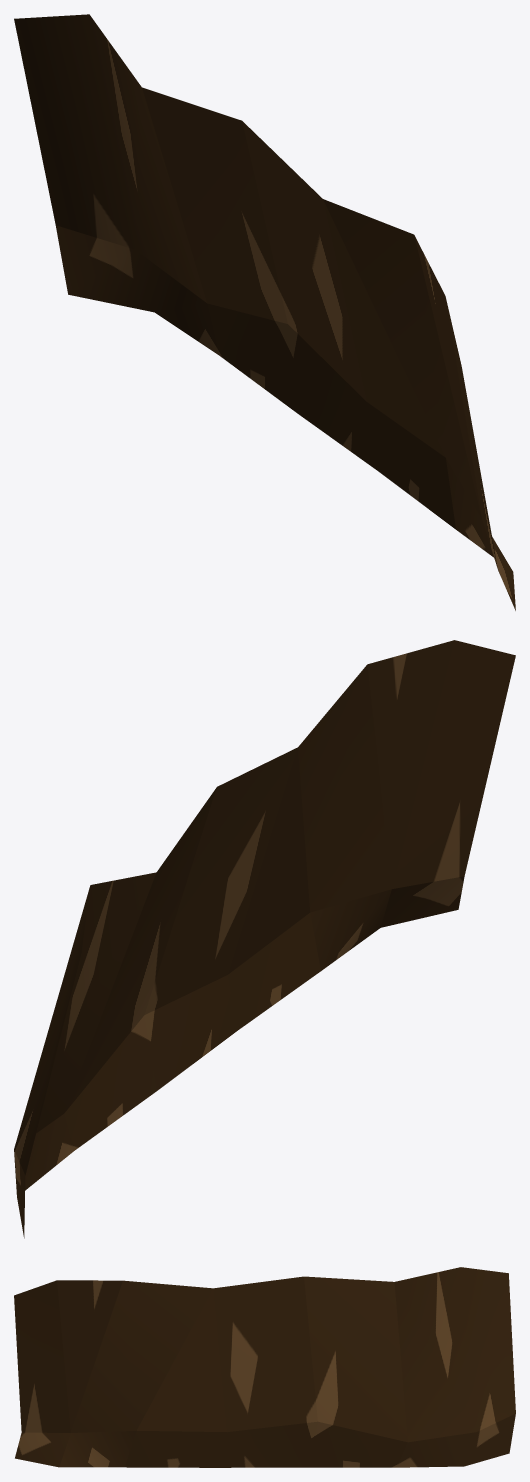
File: SM_bordure_hitbox.FBX
3 views of the same model, one above another, from view 1: azimuth 30°, elevation 25°; view 2: azimuth 150°, elevation 25°; view 3: azimuth 270°, elevation 25° (orthographic). The views are drawn at different scales.
Parts seen in each view (by area): view 1: bordure_hitbox; view 2: bordure_hitbox; view 3: bordure_hitbox.
Part boxes in pixels (left/top/right/bottom): bordure_hitbox: left=14, top=14, right=515, bottom=610; bordure_hitbox: left=14, top=640, right=515, bottom=1238; bordure_hitbox: left=14, top=1267, right=515, bottom=1467.
Bounding box in the file's own units: 232 × 664 × 1663.
